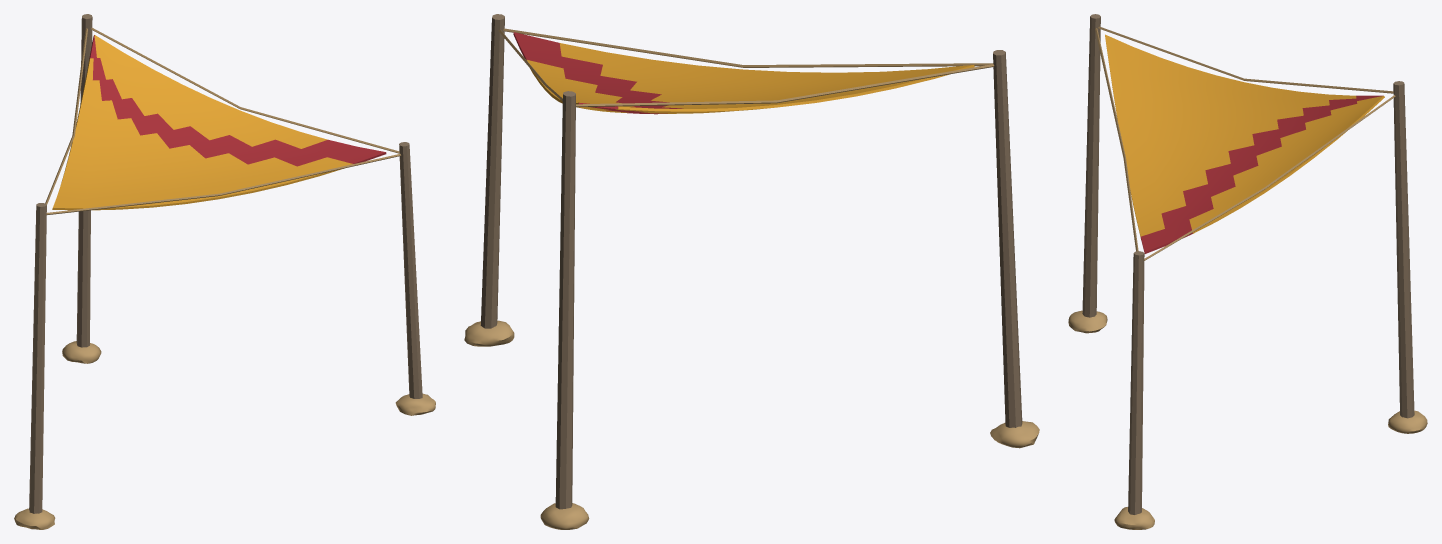
File: deco_awning_sail.fbx
The picture shows the model from 3 angles, left to right: view 1: azimuth 30°, elevation 25°; view 2: azimuth 150°, elevation 25°; view 3: azimuth 270°, elevation 25°; orthographic projection. The views are drawn at different scales.
Visible parts, largest first — view 1: Awning_Sail_Sail, Awning_Sail_Poles; view 2: Awning_Sail_Poles, Awning_Sail_Sail; view 3: Awning_Sail_Sail, Awning_Sail_Poles.
Boxes of the visible parts, bbox=[...] form: Awning_Sail_Sail: bbox=[45, 27, 400, 214]; Awning_Sail_Poles: bbox=[14, 14, 435, 529]; Awning_Sail_Poles: bbox=[464, 14, 1039, 529]; Awning_Sail_Sail: bbox=[498, 28, 994, 114]; Awning_Sail_Sail: bbox=[1095, 26, 1395, 260]; Awning_Sail_Poles: bbox=[1068, 14, 1427, 529].
Size of the model in its own units: 467 by 350 by 331.
